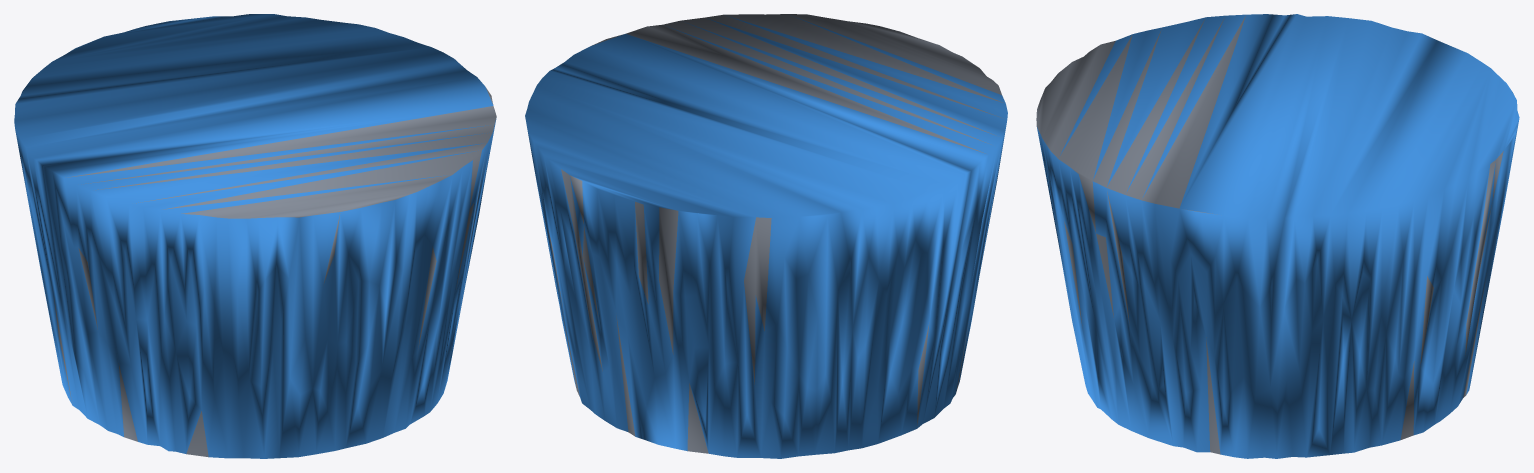
The model's file is SM_prop_bucket.glb.
3 views of the same model, side by side, from view 1: azimuth 30°, elevation 25°; view 2: azimuth 150°, elevation 25°; view 3: azimuth 270°, elevation 25° (orthographic).
Visible parts, largest first — view 1: SM_prop_bucket; view 2: SM_prop_bucket; view 3: SM_prop_bucket.
Part boxes in pixels (box(x1,y1,x2,y2)): SM_prop_bucket: box(14, 14, 496, 458); SM_prop_bucket: box(525, 14, 1007, 458); SM_prop_bucket: box(1036, 14, 1519, 458).
Bounding box in the file's own units: 0.7473 × 0.45 × 0.7484.
1 material, 1 textured.
